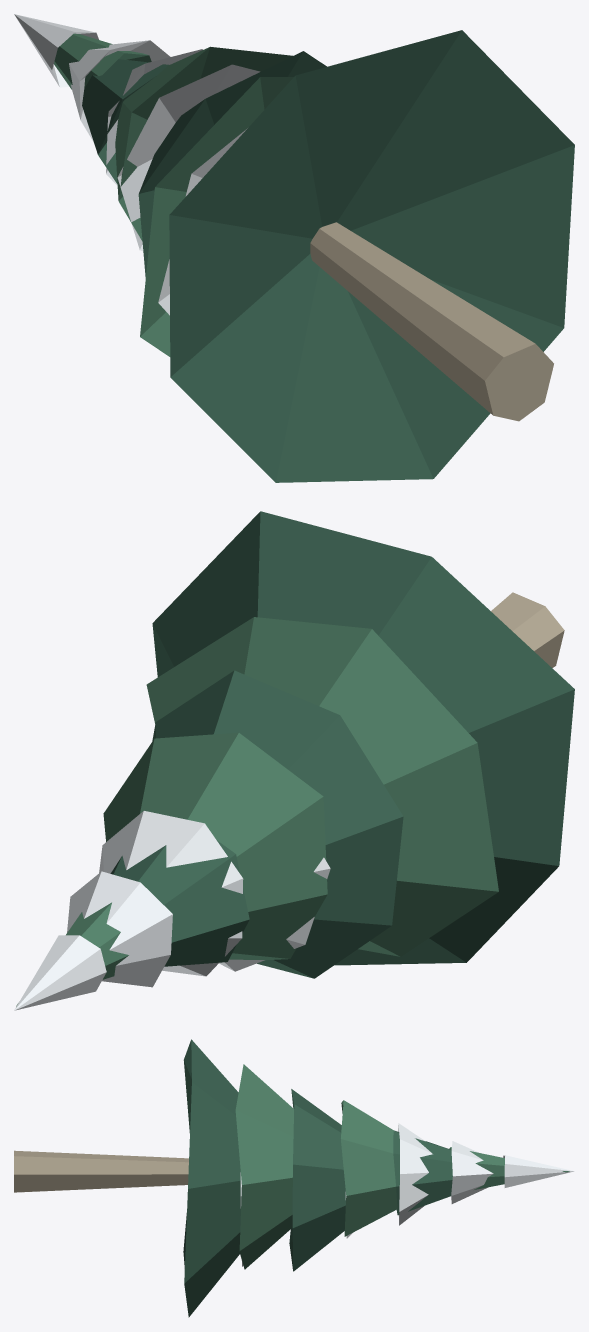
The model's file is TreeConiferD5.fbx.
3 renders of one model, top to bottom at view 1: azimuth 30°, elevation 25°; view 2: azimuth 150°, elevation 25°; view 3: azimuth 270°, elevation 25°, orthographic. The views are drawn at different scales.
Visible parts, largest first — view 1: M_Tree_Pine_Dark, M_Tree_PaleWood, M_Tree_Pine_Mid, M_Tree_Snow; view 2: M_Tree_Pine_Dark, M_Tree_Pine_Mid, M_Tree_Snow, M_Tree_PaleWood; view 3: M_Tree_Pine_Dark, M_Tree_Pine_Mid, M_Tree_PaleWood, M_Tree_Snow.
Part boxes in pixels (bbox=[...]): M_Tree_Pine_Dark: bbox=[82, 30, 574, 482]; M_Tree_PaleWood: bbox=[310, 222, 553, 421]; M_Tree_Pine_Mid: bbox=[54, 33, 293, 356]; M_Tree_Snow: bbox=[14, 14, 260, 315]; M_Tree_Pine_Dark: bbox=[110, 511, 574, 978]; M_Tree_Pine_Mid: bbox=[16, 617, 498, 1006]; M_Tree_Snow: bbox=[14, 811, 330, 1010]; M_Tree_PaleWood: bbox=[491, 592, 564, 667]; M_Tree_Pine_Dark: bbox=[183, 1039, 452, 1317]; M_Tree_Pine_Mid: bbox=[235, 1064, 569, 1269]; M_Tree_PaleWood: bbox=[14, 1150, 188, 1192]; M_Tree_Snow: bbox=[240, 1123, 574, 1266].
Bounding box in the file's own units: 20.02 × 20.54 × 42.76.
